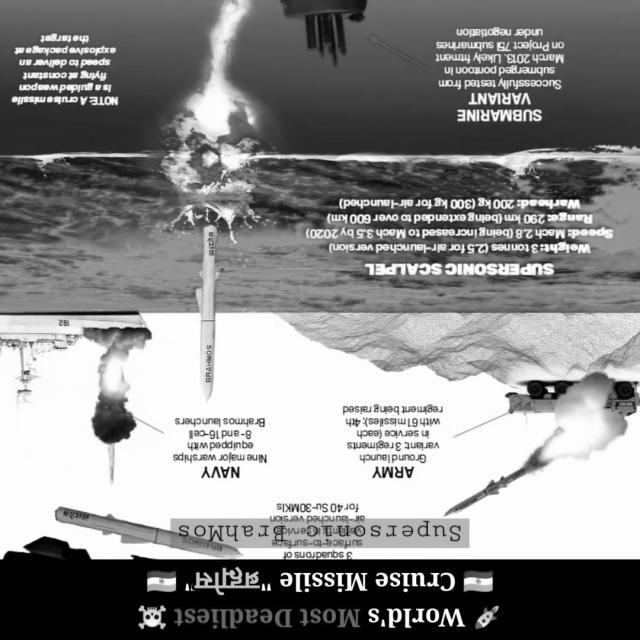missile: (436, 446, 556, 522), (196, 225, 224, 407)
